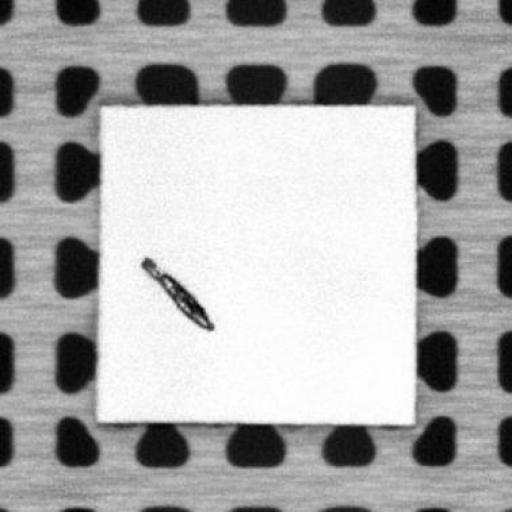DIE_INK: (141, 254, 214, 331)
